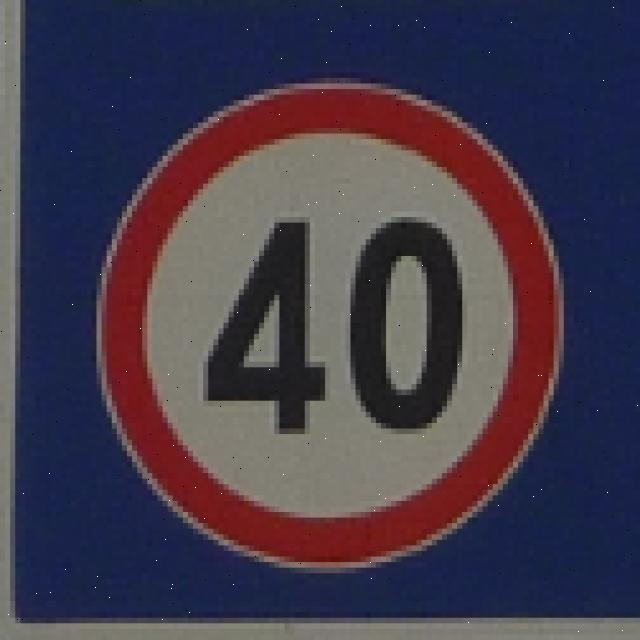speed limit 40: (93, 78, 567, 578)
